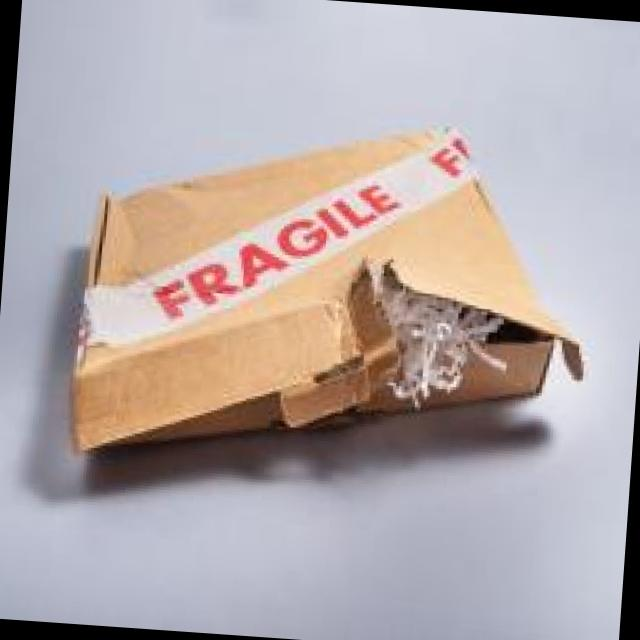box: (93, 63, 584, 589)
